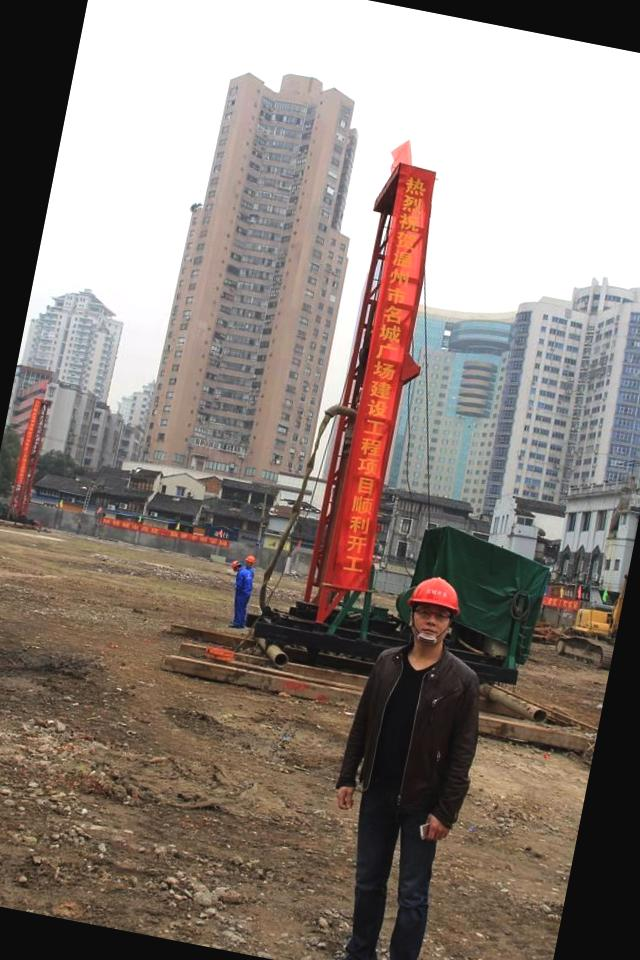helmet: (396, 561, 474, 634)
no_vest: (324, 638, 496, 848)
person: (290, 557, 518, 960)
